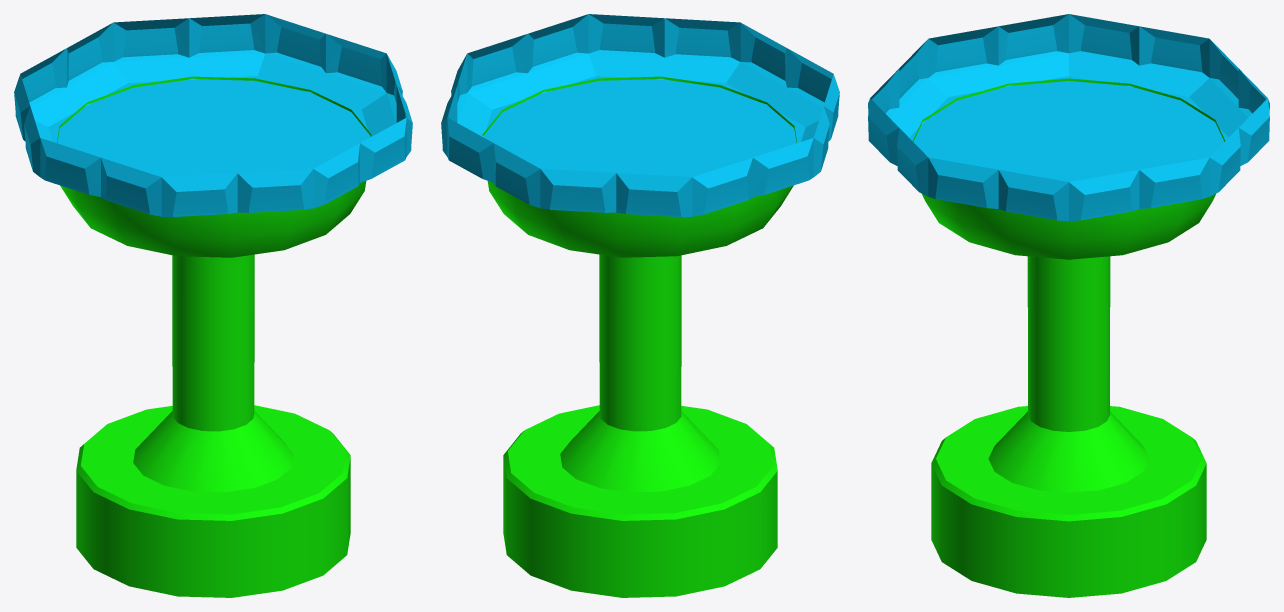
File: Centro.FBX
3 renders of one model, left to right at view 1: azimuth 30°, elevation 25°; view 2: azimuth 150°, elevation 25°; view 3: azimuth 270°, elevation 25°, orthographic.
Parts seen in each view (by area): view 1: Cylinder002, Cylinder003; view 2: Cylinder002, Cylinder003; view 3: Cylinder002, Cylinder003.
Boxes of the visible parts, x1,y1,x2,y2 form: Cylinder002: (57,76,371,597); Cylinder003: (14,14,412,216); Cylinder002: (482,76,796,597); Cylinder003: (441,14,839,216); Cylinder002: (912,78,1225,597); Cylinder003: (868,14,1269,221).
Size of the model in its own units: 3.17 by 3.85 by 3.17.
